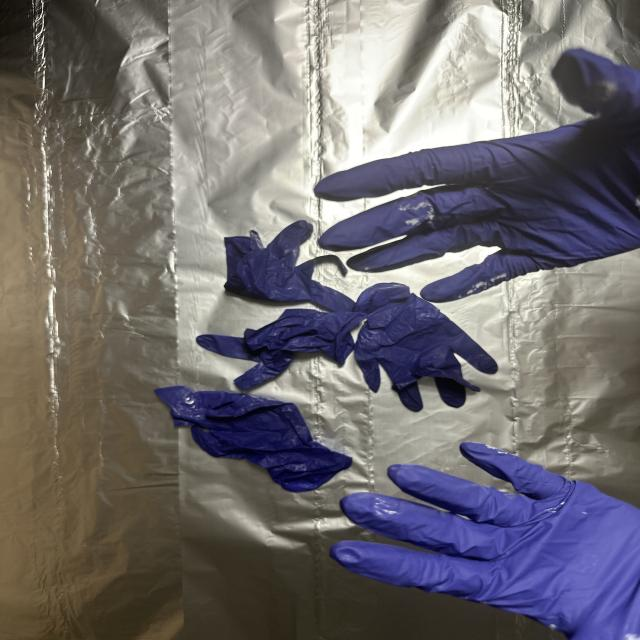gloves_contaminated: (314, 49, 640, 302), (330, 441, 640, 640)
